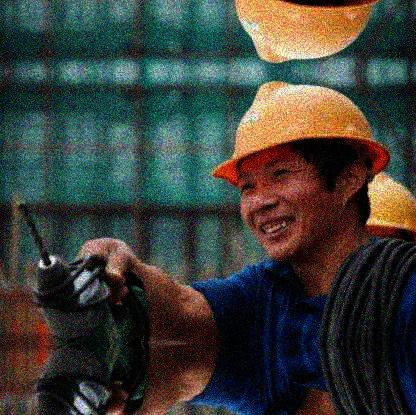helmet: (210, 81, 393, 266)
